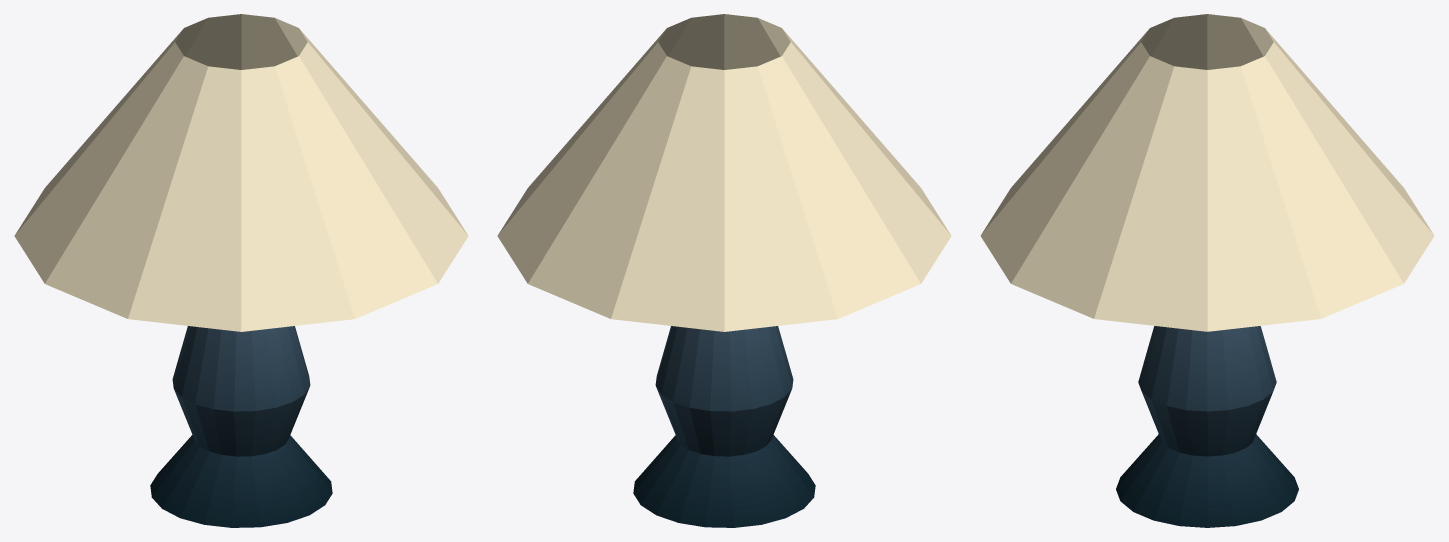
The model's file is lamparacontextura.fbx.
The picture shows the model from 3 angles, left to right: view 1: azimuth 30°, elevation 25°; view 2: azimuth 150°, elevation 25°; view 3: azimuth 270°, elevation 25°; orthographic projection.
Visible parts, largest first — view 1: pCylinder3; view 2: pCylinder3; view 3: pCylinder3.
Boxes of the visible parts, bbox=[...] form: pCylinder3: bbox=[14, 14, 468, 527]; pCylinder3: bbox=[497, 14, 951, 527]; pCylinder3: bbox=[980, 14, 1434, 527].
Bounding box in the file's own units: 2 × 2.17 × 2.
1 material, 1 textured.
